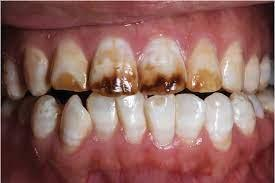LLC_healthy: (204, 92, 232, 152)
LLLI_healthy: (175, 93, 206, 146)
LR1BC_mdecay: (29, 95, 58, 139)
ULCI_healthy: (144, 96, 175, 147)
ULCI_sdecay: (139, 38, 187, 95)
ULLI_sdecay: (188, 38, 222, 93)
URCI_healthy: (116, 94, 146, 143)
URCI_sdecay: (88, 38, 138, 97)
URC_healthy: (59, 94, 91, 152), (222, 39, 245, 90)
URLI_healthy: (87, 92, 117, 139)
URLI_sdecay: (51, 37, 87, 91)
